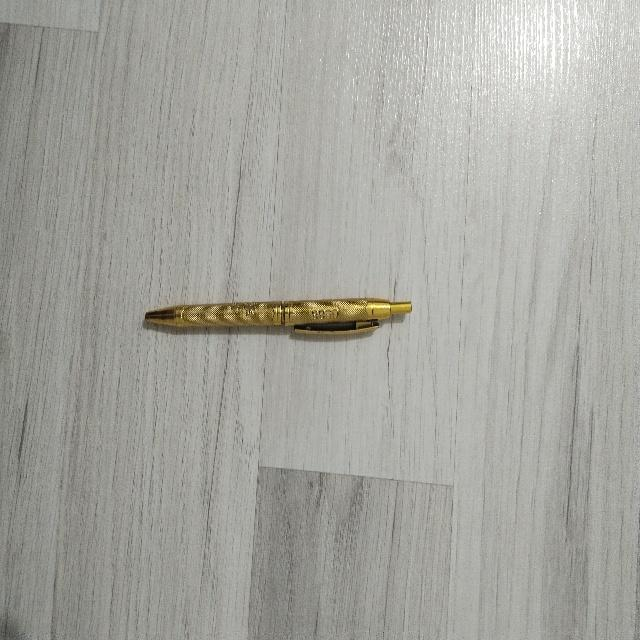signature pen: (145, 298, 411, 334)
